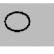no answer: (2, 10, 37, 35)
